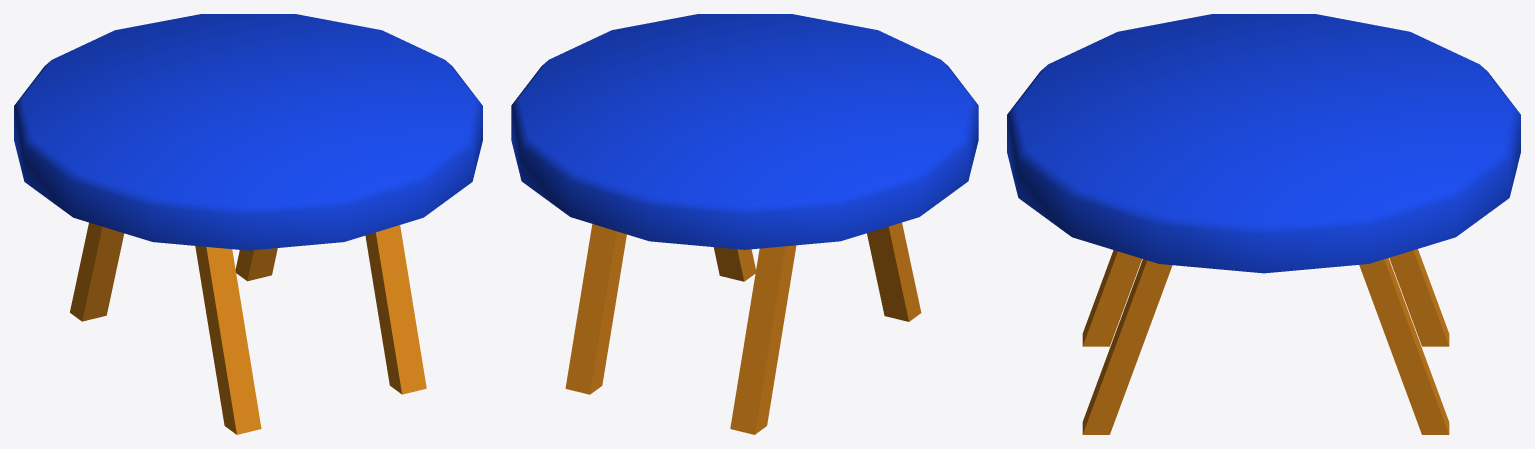
Rendered from ban an 2.FBX.
3 views of the same model, side by side, from view 1: azimuth 30°, elevation 25°; view 2: azimuth 150°, elevation 25°; view 3: azimuth 270°, elevation 25° (orthographic). The views are drawn at different scales.
Visible parts, largest first — view 1: Cylinder112; view 2: Cylinder112; view 3: Cylinder112.
Boxes of the visible parts, x1,y1,x2,y2 form: Cylinder112: (14, 14, 482, 434); Cylinder112: (511, 14, 978, 434); Cylinder112: (1007, 14, 1520, 434).
Bounding box in the file's own units: 2.55 × 1.47 × 2.57.
